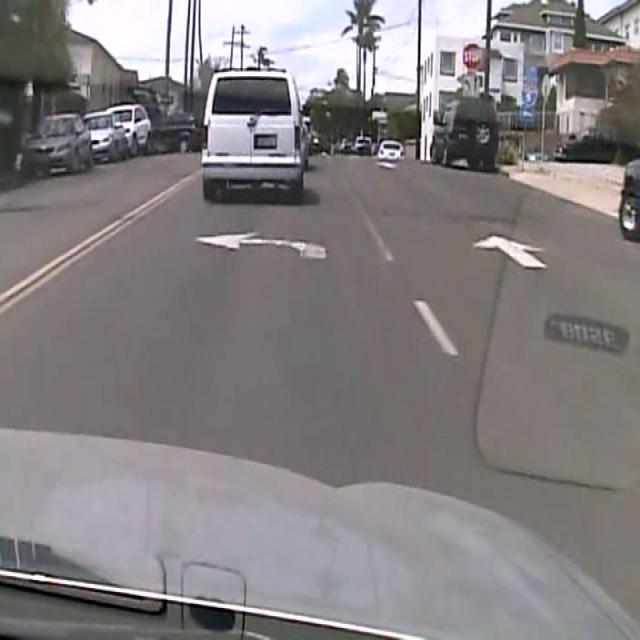stop: (461, 41, 483, 72)
